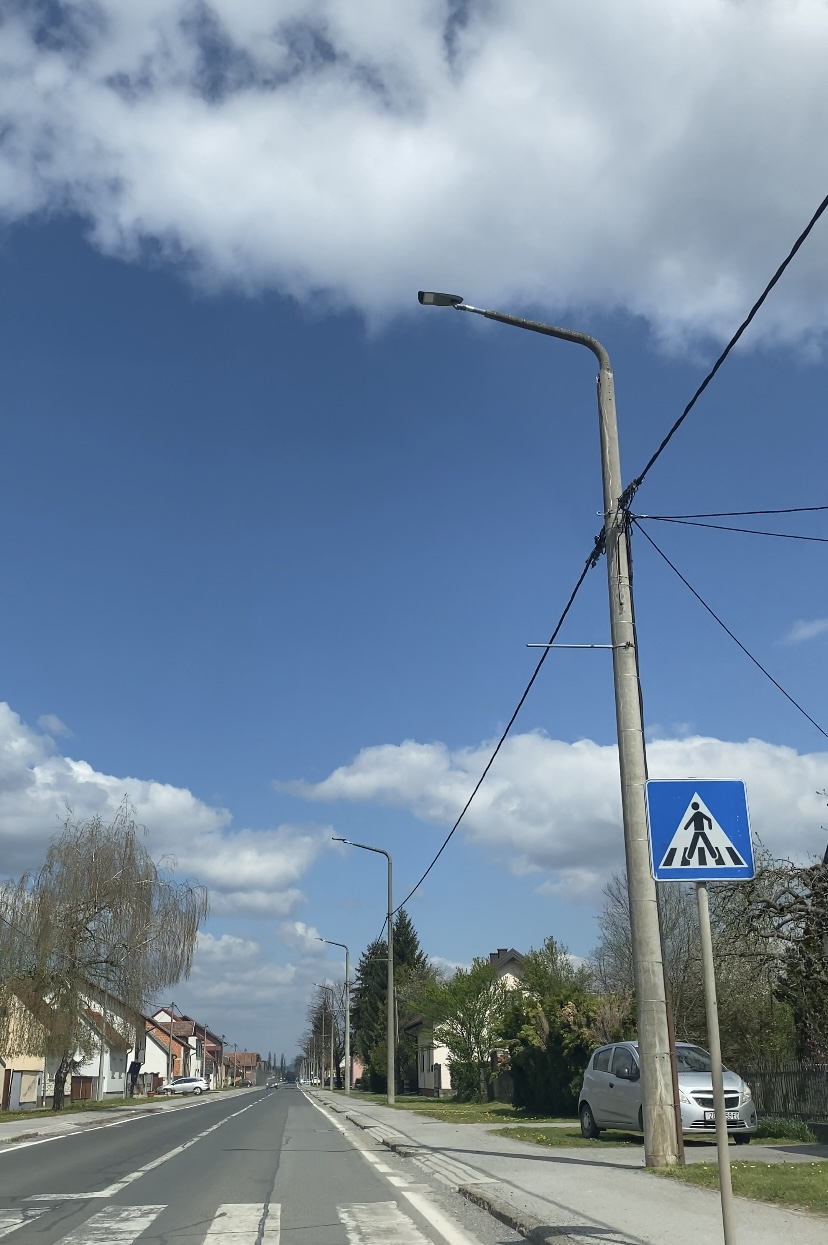Pješački prijelaz: (644, 778, 756, 880)
